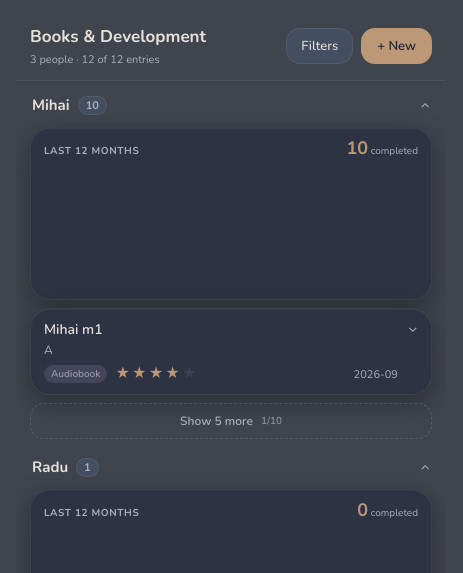
Test case: Books & Development — per-person sections › shows only the latest entry until more are requested
The width and height of the screenshot is (463, 573).
Expected: the text "Mihai" is shown, x1=32 y1=95 x2=70 y2=115
Expected: the text "Mihai m1" is shown, x1=44 y1=320 x2=103 y2=339
Click the button "Show 5 more 1/10".
click(231, 421)  # box x1=30 y1=403 x2=432 y2=439
(page scrolled)
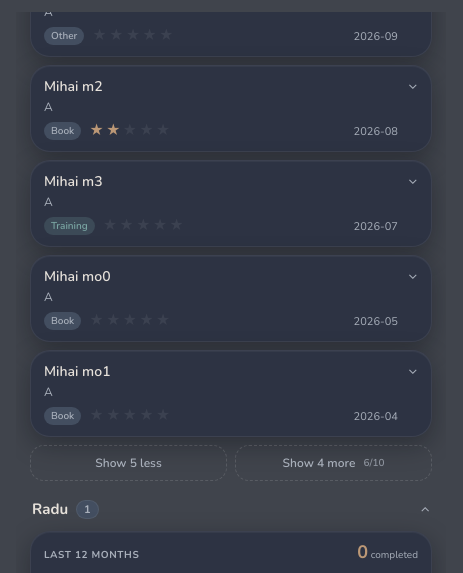
Now the text "Mihai m2" is shown, box x1=44 y1=77 x2=103 y2=96
Now the text "Mihai mo1" is shown, box x1=44 y1=362 x2=111 y2=381
